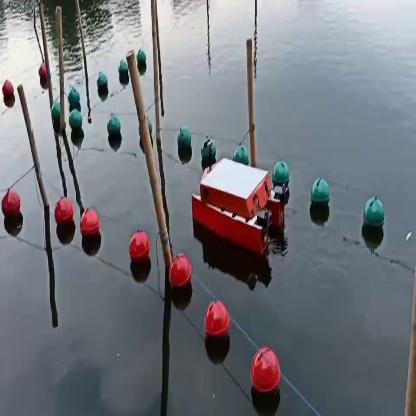green_buoy: (362, 200, 388, 240), (310, 182, 328, 218), (270, 158, 290, 190), (105, 112, 124, 142), (70, 110, 84, 138), (97, 74, 108, 100), (179, 132, 191, 152), (235, 143, 247, 160), (53, 98, 61, 122), (137, 48, 144, 74), (70, 89, 80, 106), (118, 63, 127, 80)
red_buoy: (252, 350, 280, 398), (203, 303, 232, 345), (126, 233, 152, 269), (80, 210, 100, 244), (172, 257, 192, 290), (0, 190, 20, 222), (56, 199, 73, 233), (0, 76, 14, 106), (39, 60, 47, 89)
